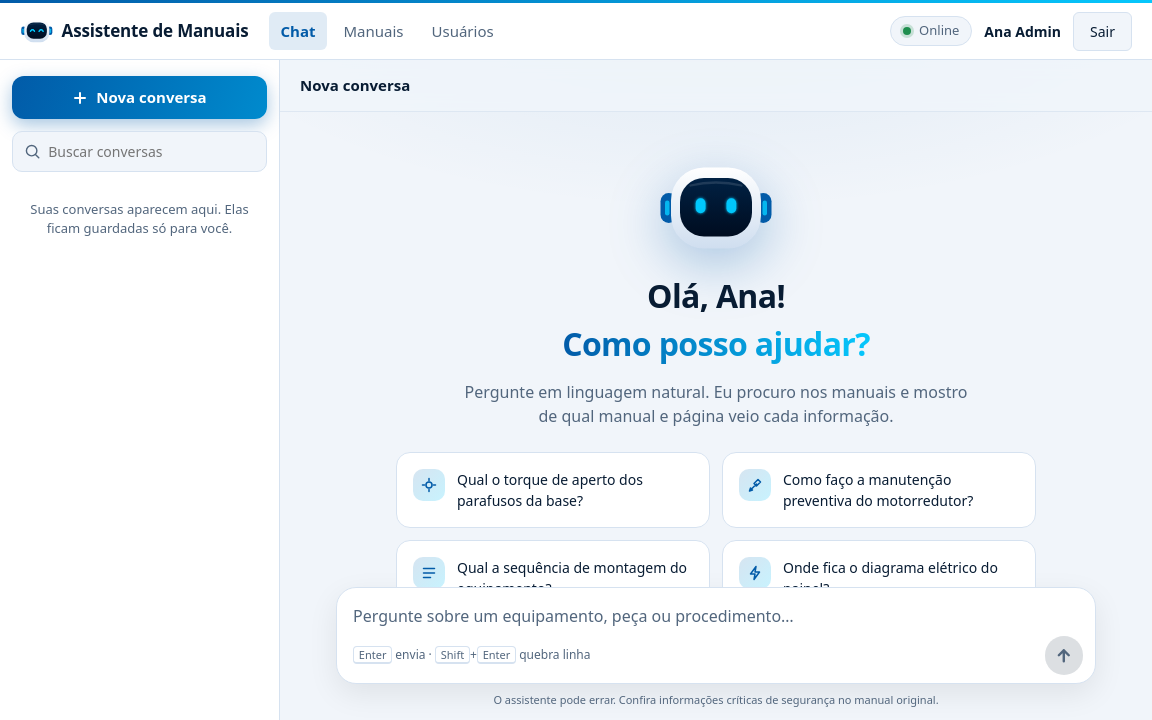
<App /> › login › logs out
Click the button "Sair": (1103, 31) x1=1073 y1=12 x2=1132 y2=50
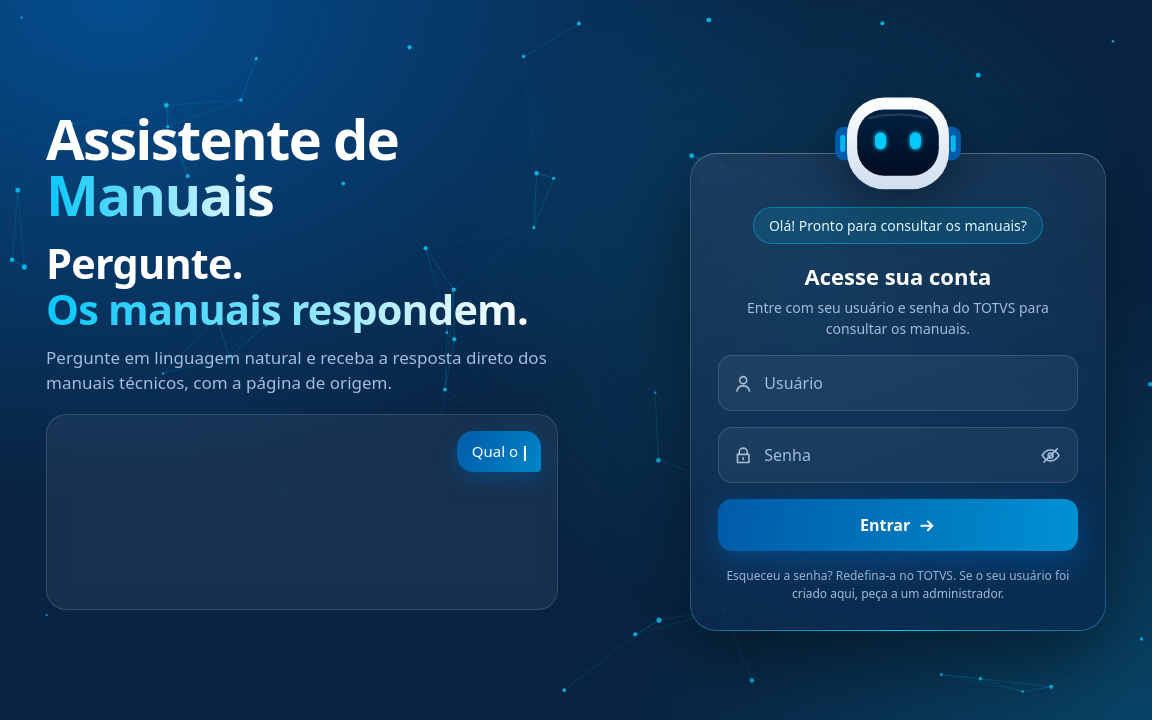
Expected: the button "Entrar" is shown, x1=718 y1=499 x2=1078 y2=551
